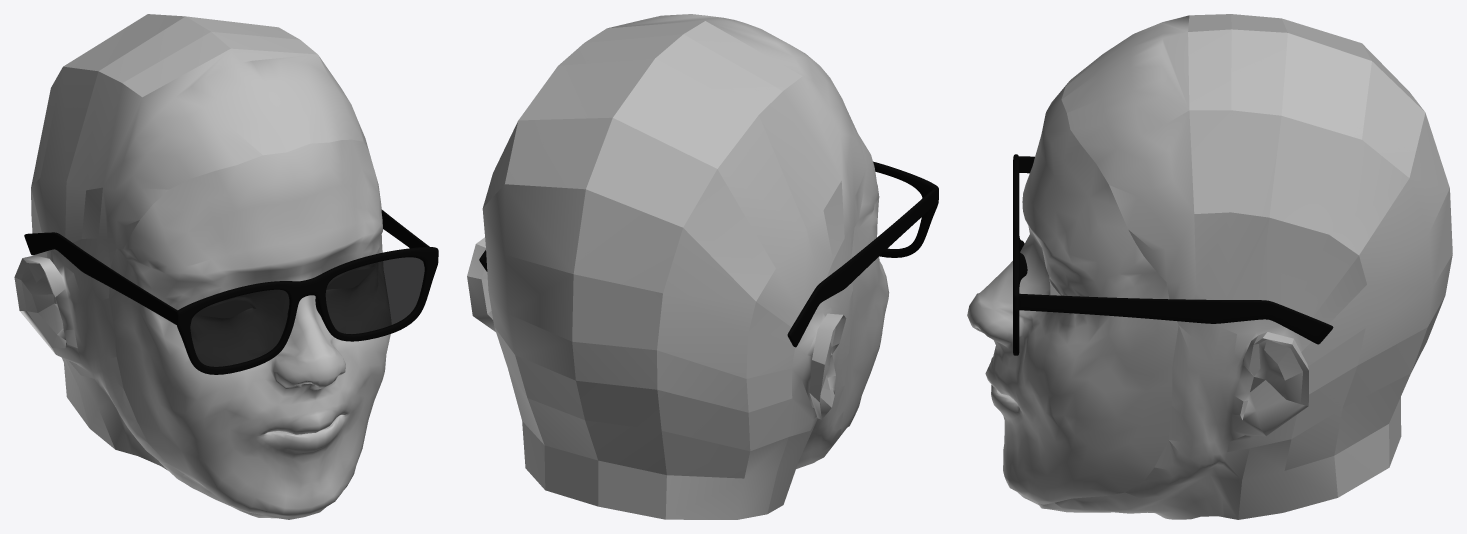
File: eyewear1.glb
The picture shows the model from 3 angles, left to right: view 1: azimuth 30°, elevation 25°; view 2: azimuth 150°, elevation 25°; view 3: azimuth 270°, elevation 25°; orthographic projection. The views are drawn at different scales.
Parts seen in each view (by area): view 1: Occluder, Lens.002, Head.001; view 2: Occluder, Head.001; view 3: Occluder, Head.001.
Part boxes in pixels (x1,y1,x2,y2): Occluder: (14, 14, 390, 519); Lens.002: (190, 257, 424, 367); Head.001: (24, 209, 438, 374); Occluder: (467, 14, 889, 519); Head.001: (479, 161, 938, 347); Occluder: (967, 14, 1452, 519); Head.001: (1013, 154, 1333, 355).
Size of the model in its own units: 0.1841 by 0.2347 by 0.2177.
3 materials, 2 textured.
